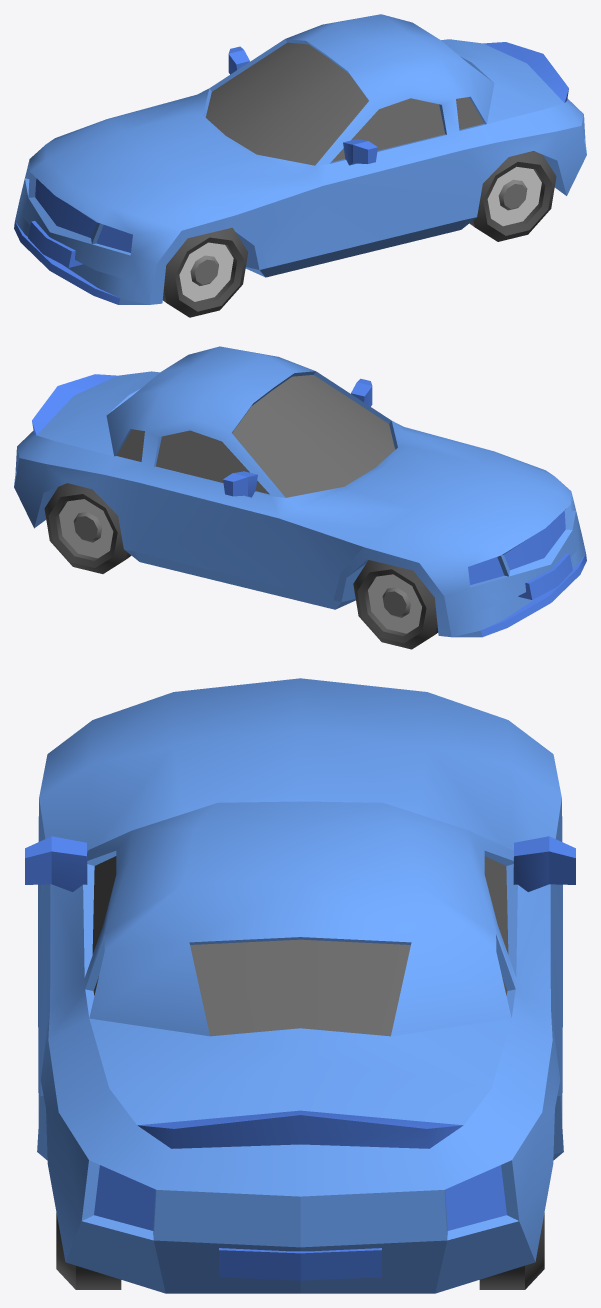
File: Car_02a.fbx
3 views of the same model, one above another, from view 1: azimuth 30°, elevation 25°; view 2: azimuth 150°, elevation 25°; view 3: azimuth 270°, elevation 25° (orthographic). The views are drawn at different scales.
Visible parts, largest first — view 1: Car_02a; view 2: Car_02a; view 3: Car_02a.
Boxes of the visible parts, x1=… form: Car_02a: x1=14, y1=14, x2=586, y2=317; Car_02a: x1=14, y1=346, x2=586, y2=649; Car_02a: x1=25, y1=678, x2=575, y2=1293.
Size of the model in its own units: 889 by 296 by 413.
